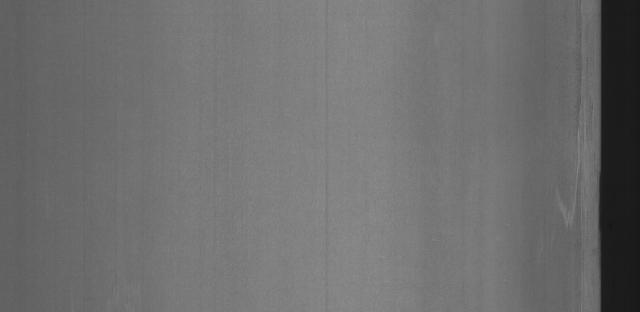silk_spot: (539, 117, 593, 240)
